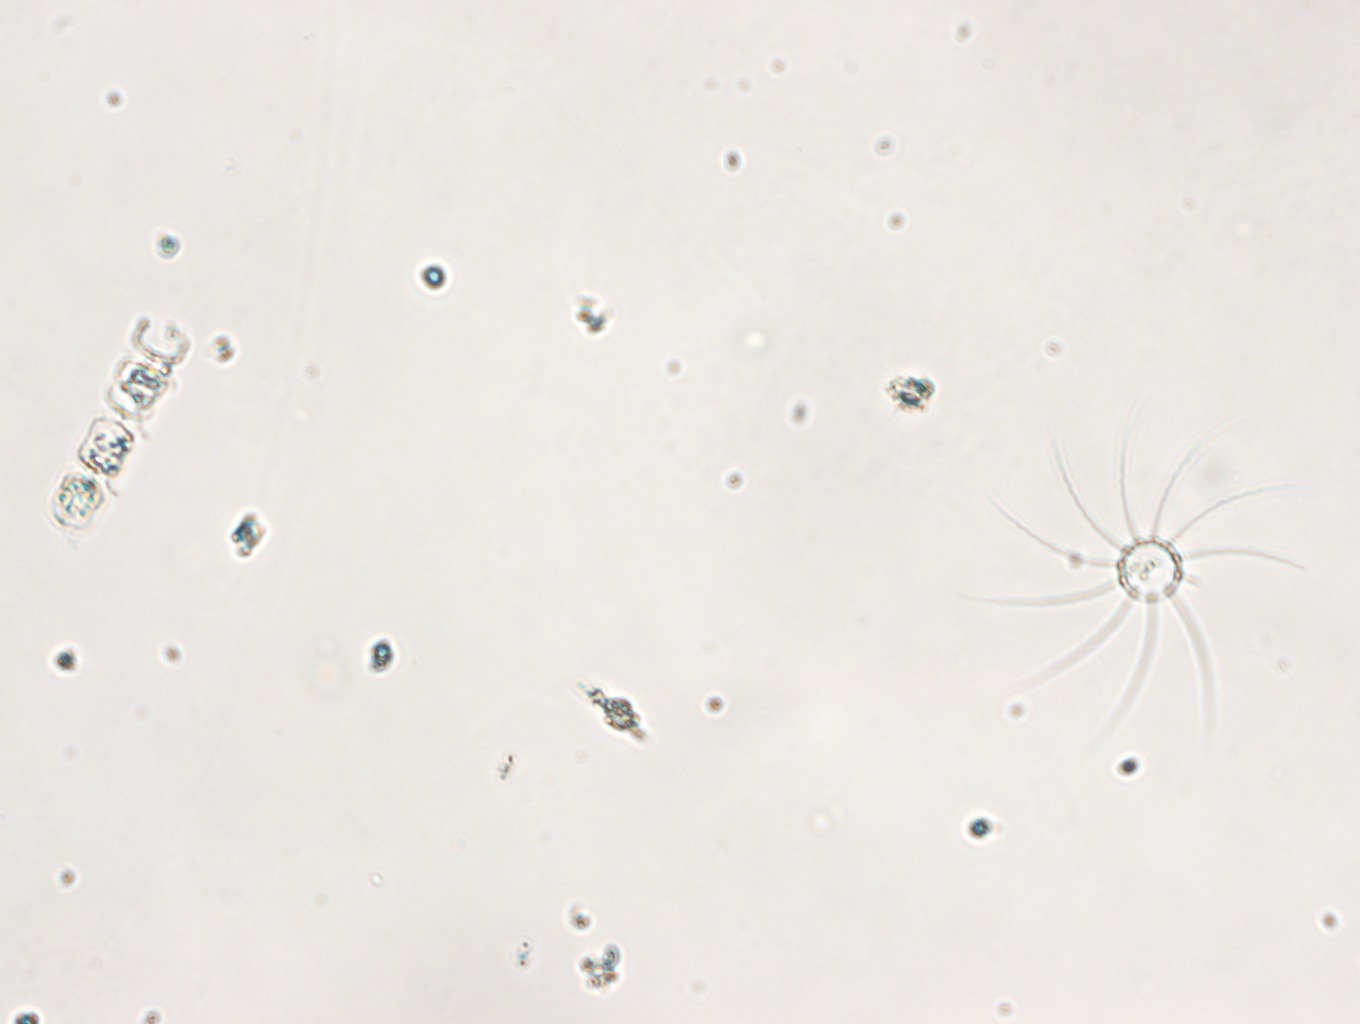bacteriastrum: (975, 433, 1295, 735)
